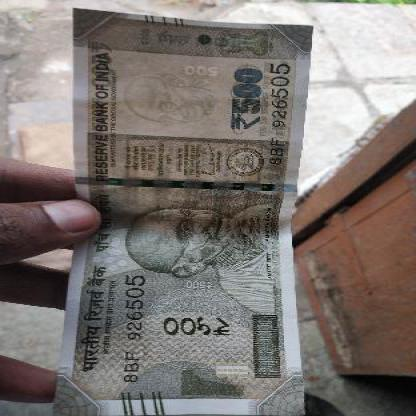New500Front: (70, 3, 302, 415)
